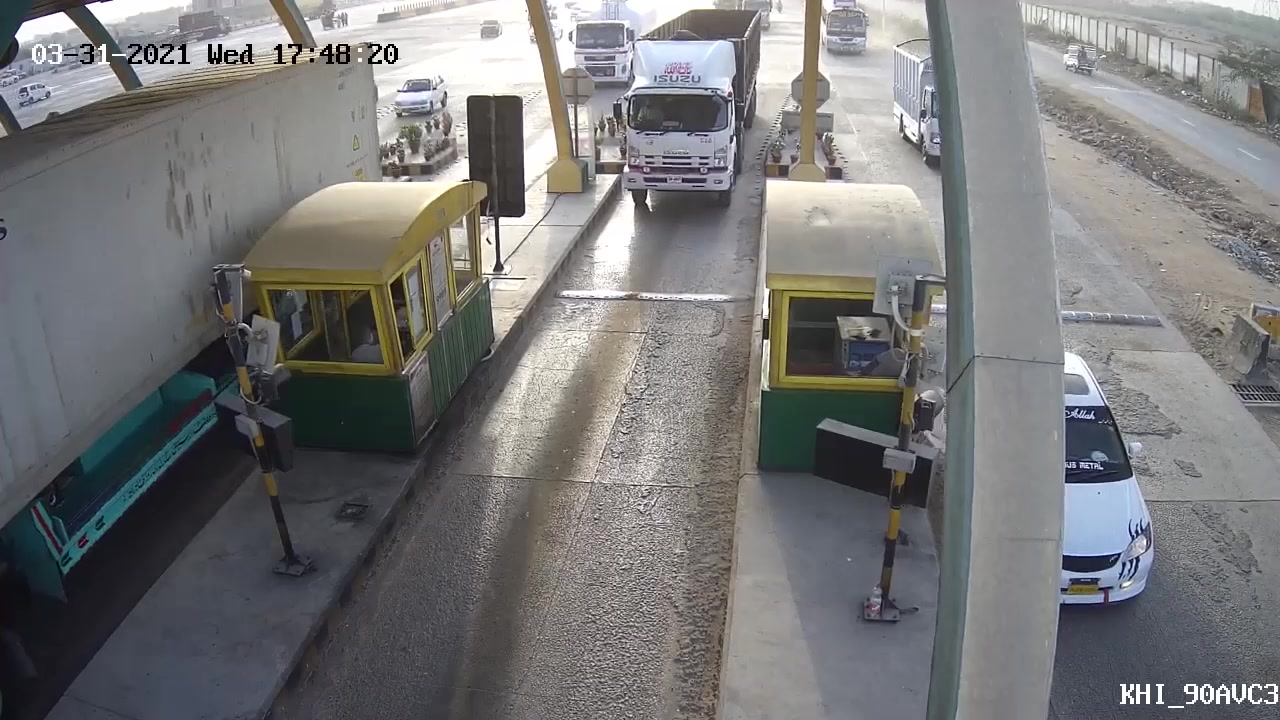F5: (611, 1, 765, 218)
